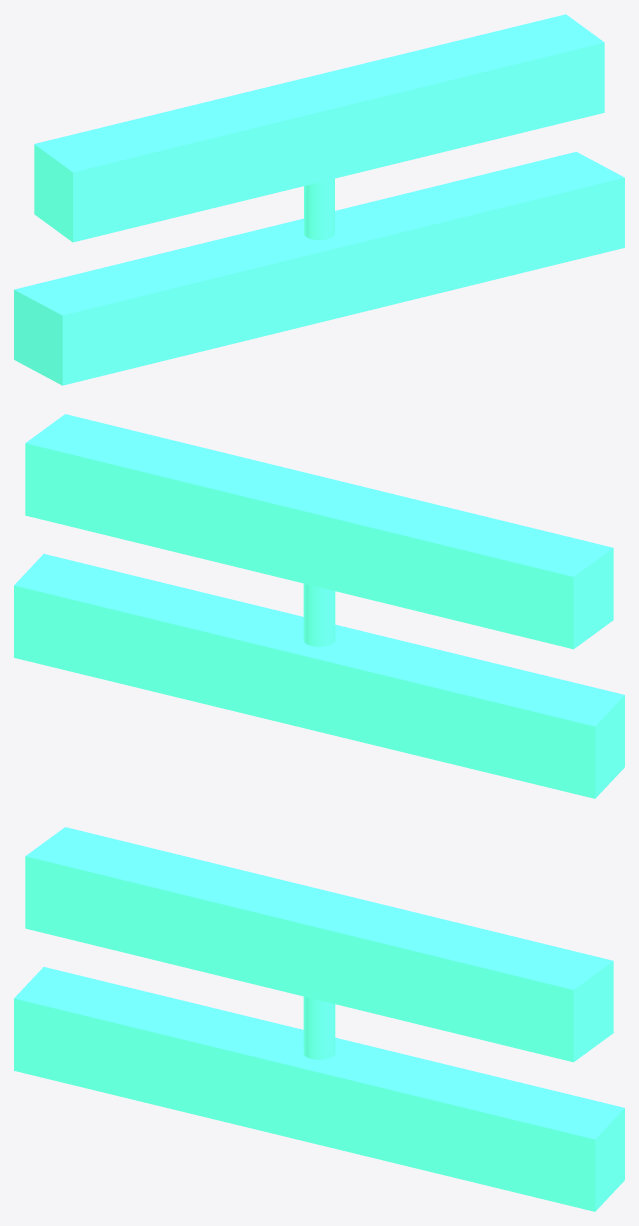
The model's file is blocker.dae.
3 views of the same model, one above another, from view 1: azimuth 30°, elevation 25°; view 2: azimuth 150°, elevation 25°; view 3: azimuth 330°, elevation 25° (orthographic). The views are drawn at different scales.
Visible parts, largest first — view 1: polySurface97, polySurface98, polySurface99; view 2: polySurface97, polySurface98, polySurface99; view 3: polySurface97, polySurface98, polySurface99.
Part boxes in pixels (x1,y1,x2,y2): polySurface97: [14, 151, 624, 385]; polySurface98: [34, 14, 604, 242]; polySurface99: [304, 178, 334, 239]; polySurface97: [14, 554, 624, 798]; polySurface98: [25, 414, 613, 649]; polySurface99: [303, 583, 335, 646]; polySurface97: [14, 967, 624, 1211]; polySurface98: [25, 827, 613, 1062]; polySurface99: [303, 996, 335, 1059].
Size of the model in its own units: 109 by 38.1 by 12.92.
